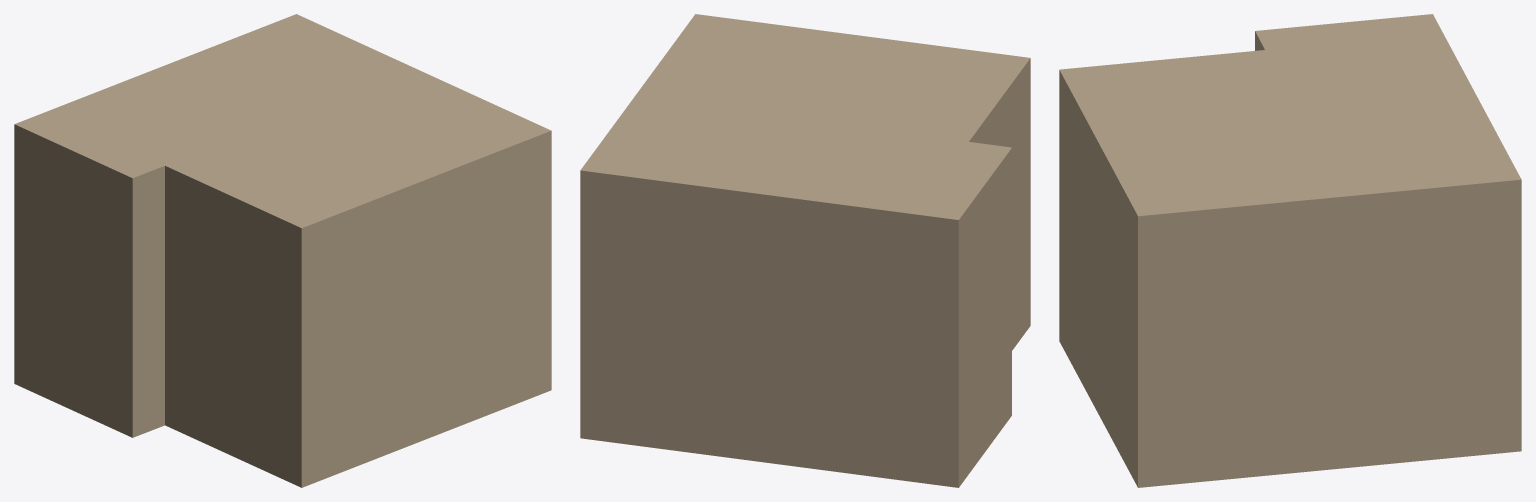
Rendered from bld_99867729.dae.
3 views of the same model, side by side, from view 1: azimuth 30°, elevation 25°; view 2: azimuth 150°, elevation 25°; view 3: azimuth 270°, elevation 25° (orthographic). The views are drawn at different scales.
Parts seen in each view (by area): view 1: bld_99867729; view 2: bld_99867729; view 3: bld_99867729.
Boxes of the visible parts, <box> form: bld_99867729: <box>14,14,551,487</box>; bld_99867729: <box>580,14,1030,487</box>; bld_99867729: <box>1059,14,1521,487</box>.
Size of the model in its own units: 12.77 by 12.34 by 8.
